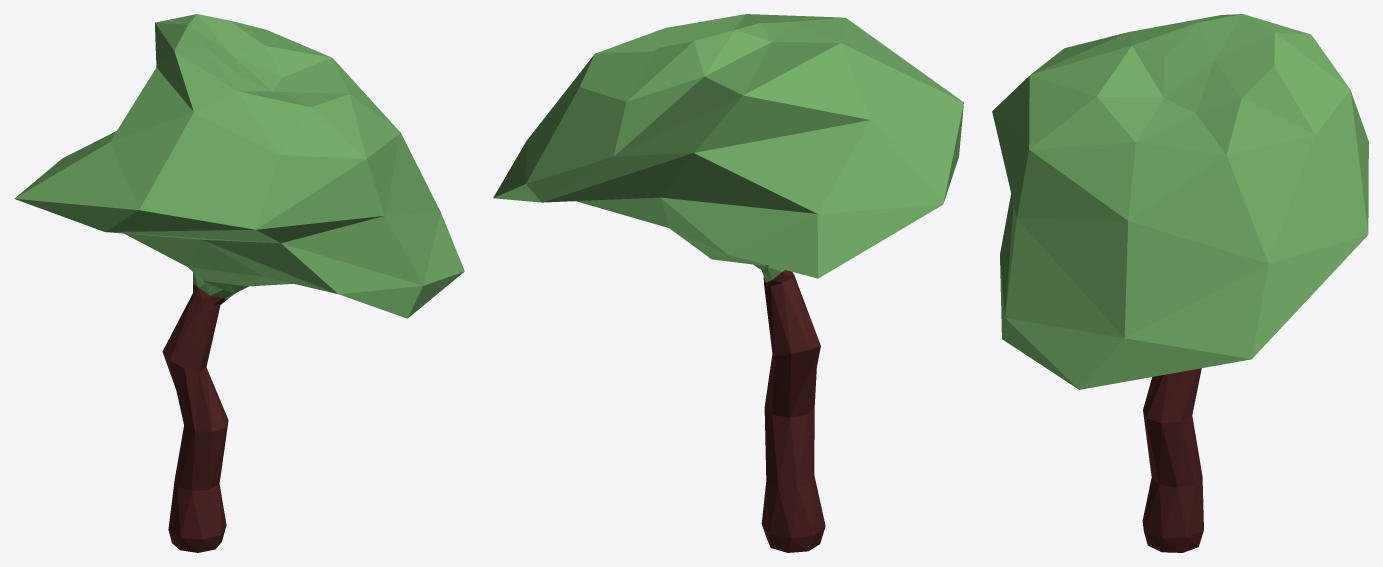
The model's file is 01_treeA_01.fbx.
3 renders of one model, left to right at view 1: azimuth 30°, elevation 25°; view 2: azimuth 150°, elevation 25°; view 3: azimuth 270°, elevation 25°, orthographic. The views are drawn at different scales.
Parts seen in each view (by area): view 1: _treeCopaA_01, _treeTroncoA_01; view 2: _treeCopaA_01, _treeTroncoA_01; view 3: _treeCopaA_01, _treeTroncoA_01.
Boxes of the visible parts, x1,y1,x2,y2 form: _treeCopaA_01: (14, 14, 464, 318); _treeTroncoA_01: (162, 283, 228, 552); _treeCopaA_01: (493, 14, 963, 282); _treeTroncoA_01: (761, 270, 825, 552); _treeCopaA_01: (992, 14, 1368, 389); _treeTroncoA_01: (1142, 368, 1203, 552).
Size of the model in its own units: 3.72 by 4.32 by 2.73.
